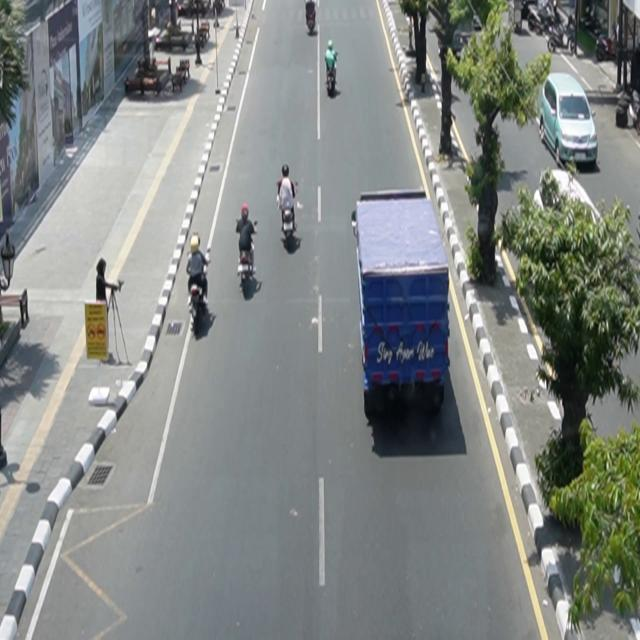bus: (352, 188, 452, 418)
car: (539, 73, 599, 170)
